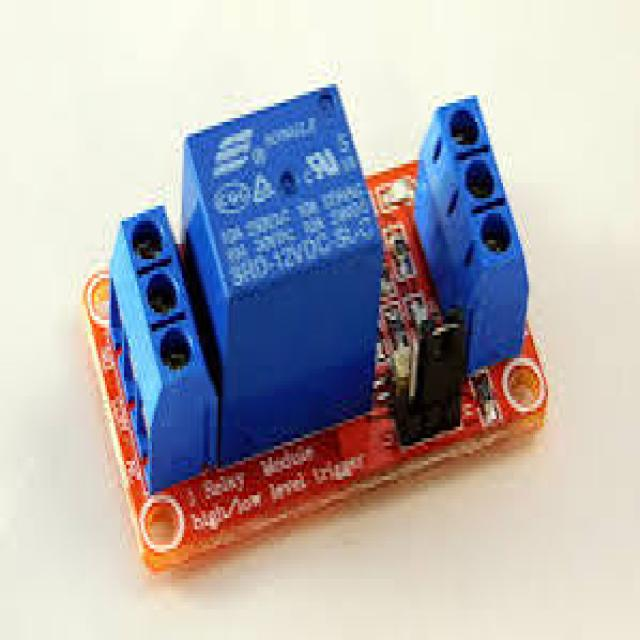Relay: (88, 84, 546, 575)
